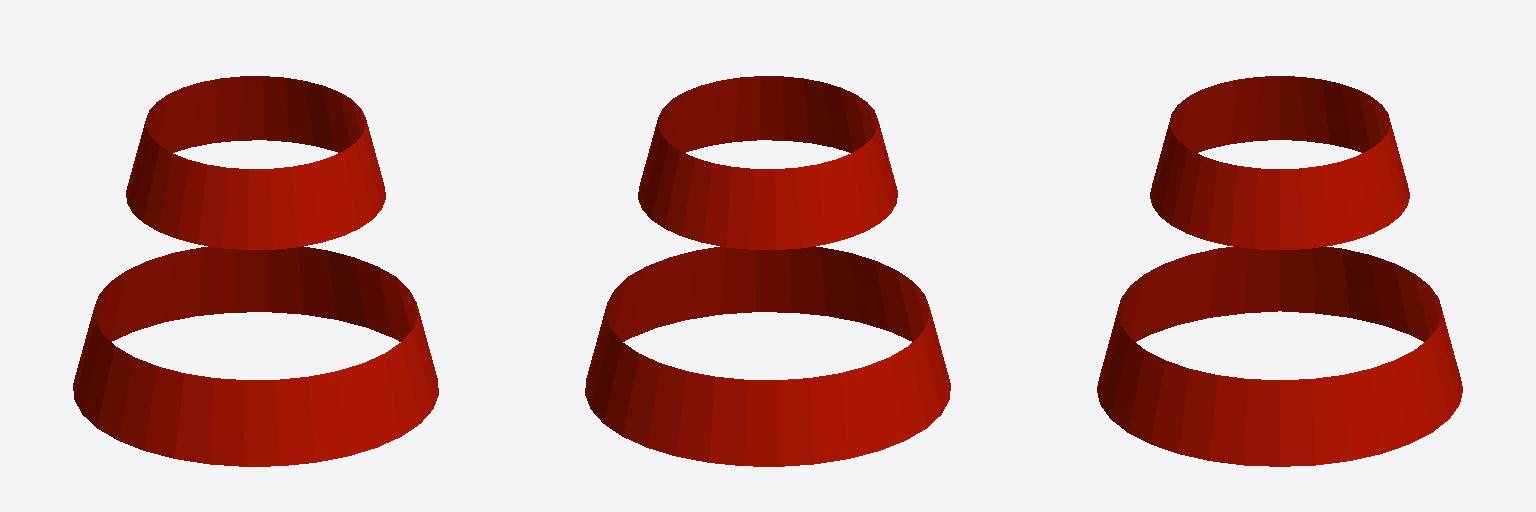
Rendered from SM_TrafficCone_V0_4_0.obj.
3 views of the same model, side by side, from view 1: azimuth 30°, elevation 25°; view 2: azimuth 150°, elevation 25°; view 3: azimuth 270°, elevation 25° (orthographic).
Size of the model in its own units: 18.67 by 14.94 by 18.6.